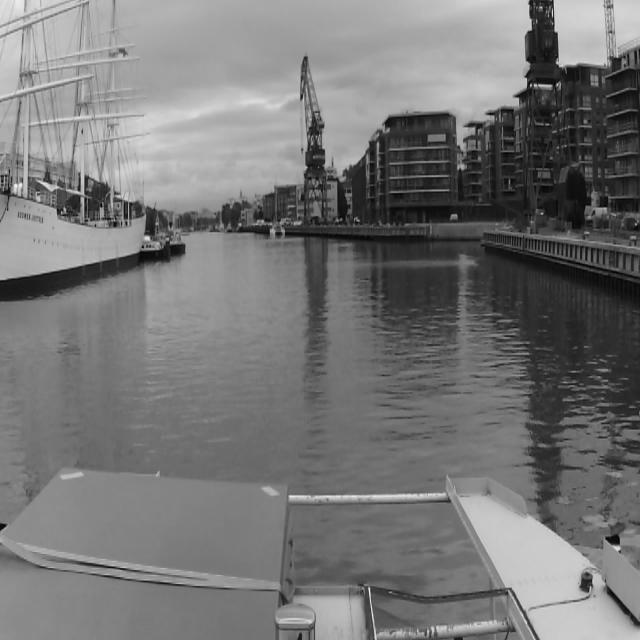ship: (3, 3, 146, 300), (269, 180, 285, 238), (141, 242, 171, 262), (168, 231, 186, 253), (209, 226, 219, 232)
